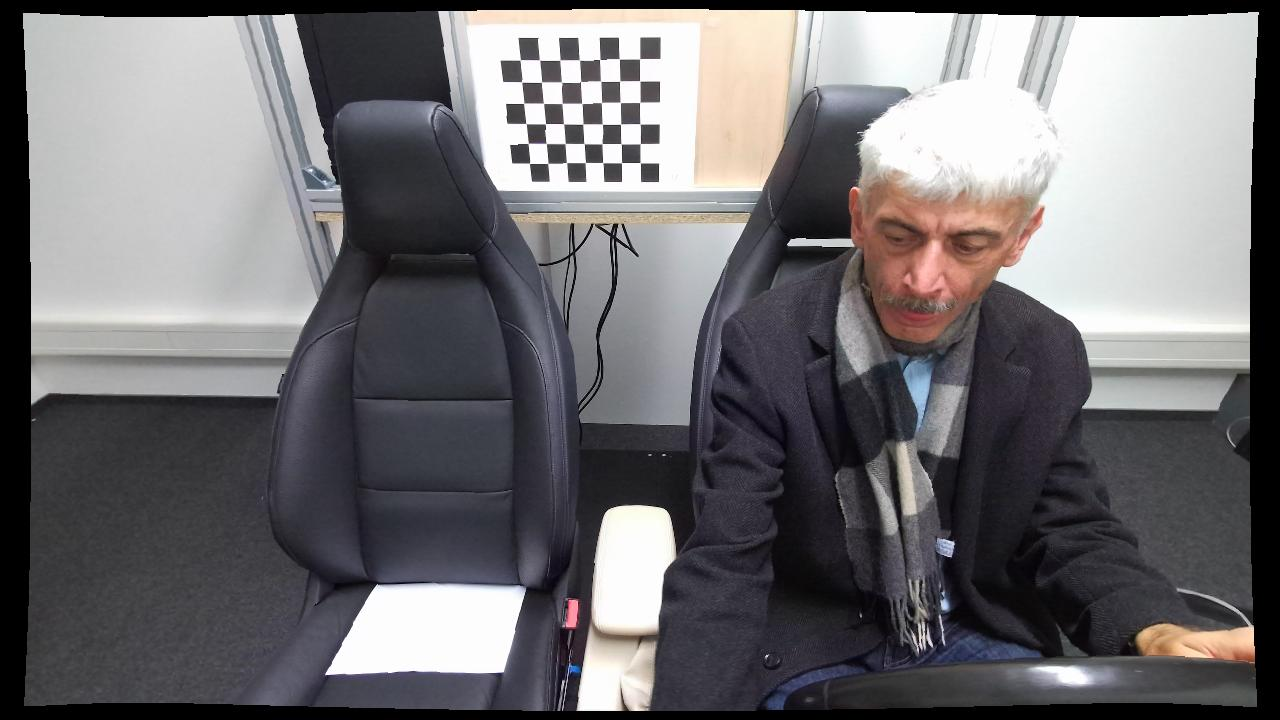Distracted: (646, 76, 1103, 710)
